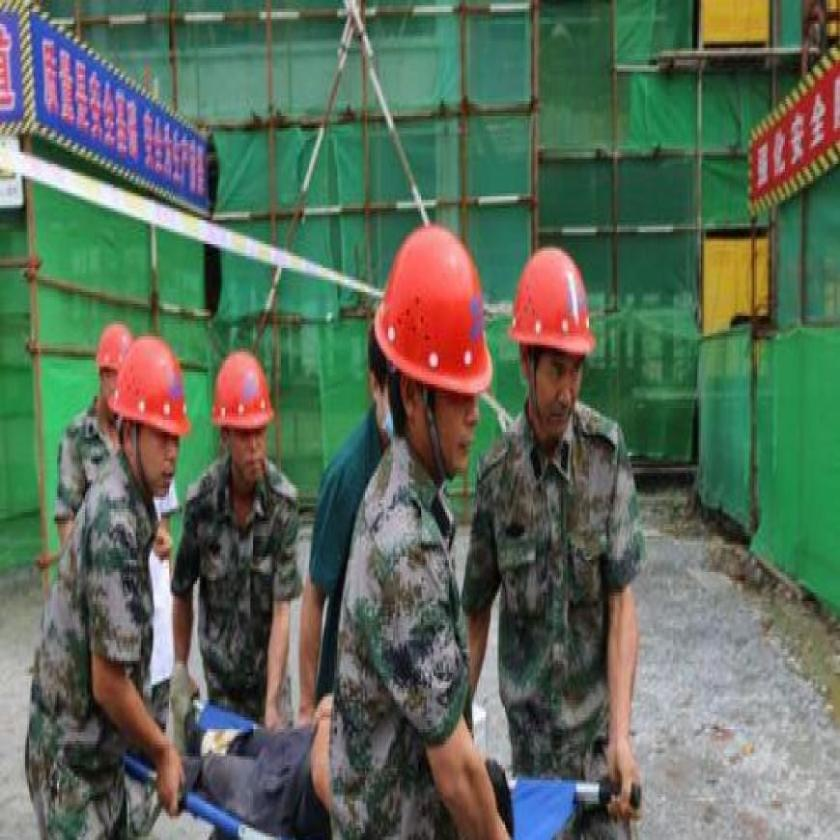Con_casco: (370, 214, 495, 498), (511, 232, 594, 472), (114, 335, 180, 504), (212, 351, 276, 481), (98, 314, 129, 414)
Sin_casco: (365, 311, 399, 448)
